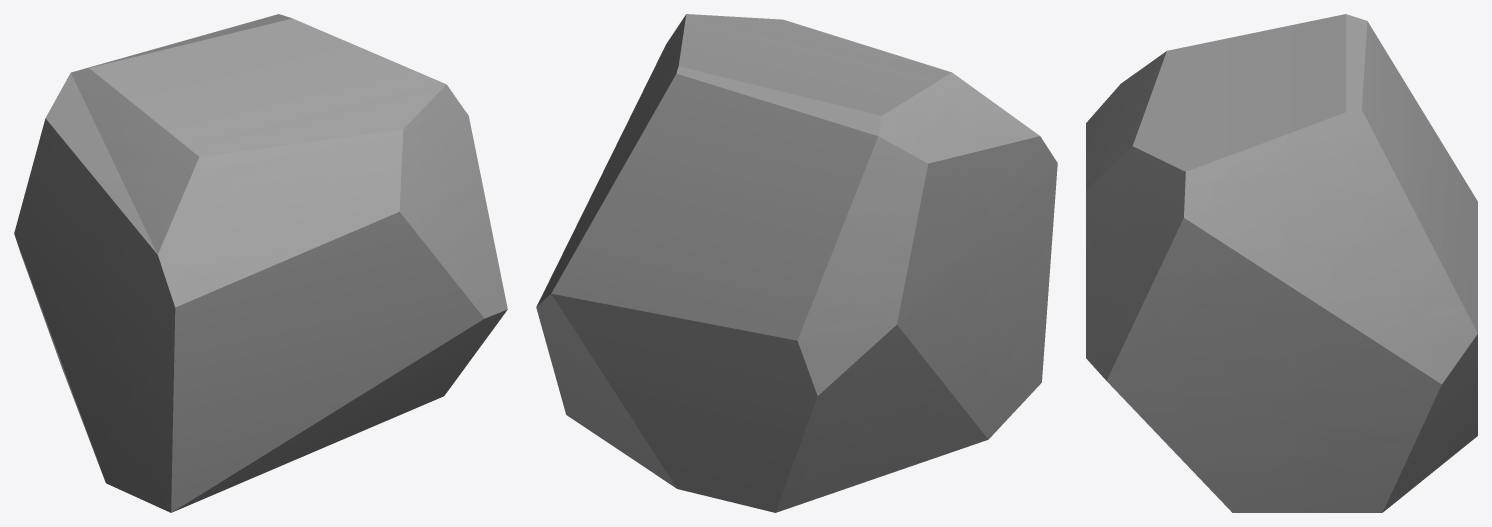
Rendered from SM_Exterior_Piedra_02.fbx.
3 views of the same model, side by side, from view 1: azimuth 30°, elevation 25°; view 2: azimuth 150°, elevation 25°; view 3: azimuth 270°, elevation 25° (orthographic).
Parts seen in each view (by area): view 1: SM_Exterior_Piedra2; view 2: SM_Exterior_Piedra2; view 3: SM_Exterior_Piedra2.
Boxes of the visible parts, x1=… form: SM_Exterior_Piedra2: x1=14, y1=14, x2=507, y2=512; SM_Exterior_Piedra2: x1=536, y1=14, x2=1057, y2=512; SM_Exterior_Piedra2: x1=1086, y1=14, x2=1477, y2=512.
Bounding box in the file's own units: 190 × 190 × 190.
